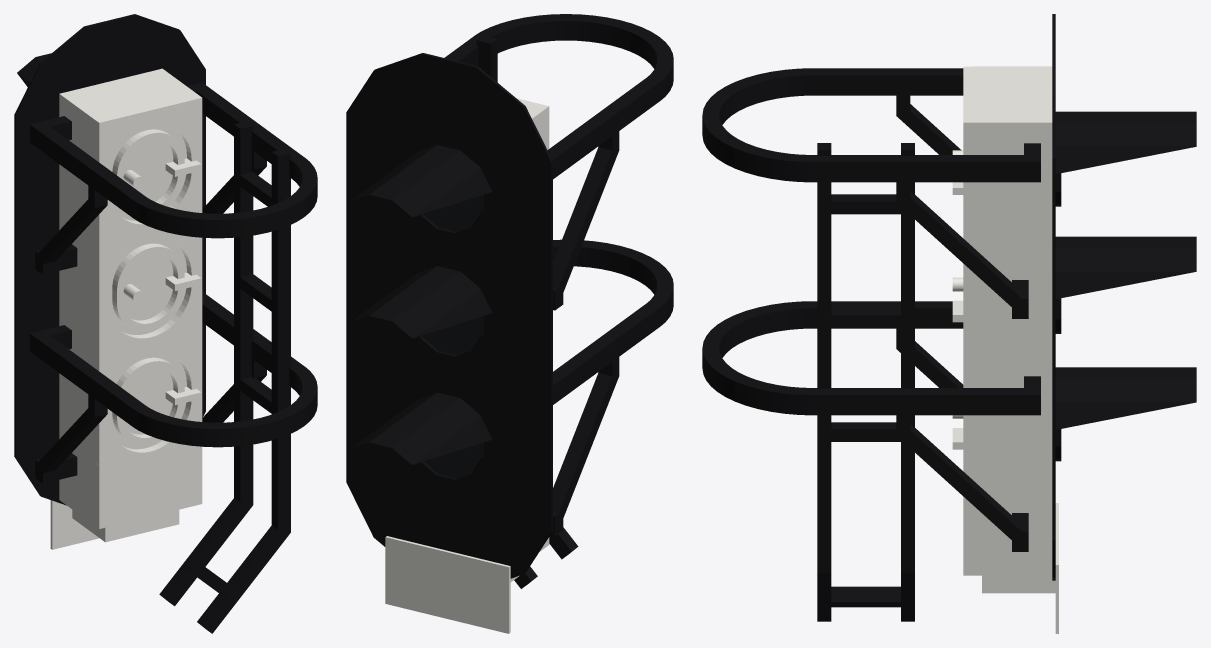
The model's file is 3chamber_left.obj.
3 views of the same model, side by side, from view 1: azimuth 30°, elevation 25°; view 2: azimuth 150°, elevation 25°; view 3: azimuth 270°, elevation 25° (orthographic). The views are drawn at different scales.
Parts seen in each view (by area): view 1: signal_head, railing, signal_plate, ladder_top, ladder_middle, signal_id; view 2: signal_plate, railing, signal_id, red, green, white, signal_head, ladder_middle, ladder_top; view 3: railing, signal_head, signal_plate, ladder_top, ladder_middle.
Boxes of the visible parts, box(x1,y1,x2,y2) form: signal_head: box(59, 68, 202, 542); railing: box(30, 82, 317, 483); signal_plate: box(14, 14, 205, 505); ladder_top: box(234, 121, 290, 534); ladder_middle: box(159, 498, 290, 633); signal_id: box(50, 500, 99, 549); signal_plate: box(346, 53, 552, 578); railing: box(444, 14, 673, 535); signal_id: box(385, 536, 510, 633); red: box(422, 317, 480, 355); green: box(423, 196, 480, 231); white: box(424, 443, 480, 478); signal_head: box(510, 98, 549, 581); ladder_middle: box(514, 527, 578, 588); ladder_top: box(476, 35, 497, 82); railing: box(702, 68, 1040, 551); signal_head: box(952, 66, 1055, 593); signal_plate: box(1052, 14, 1196, 580); ladder_top: box(817, 143, 914, 572); ladder_middle: box(817, 572, 914, 621).
Bounding box in the file's own units: 0.61 × 1.64 × 1.23.
